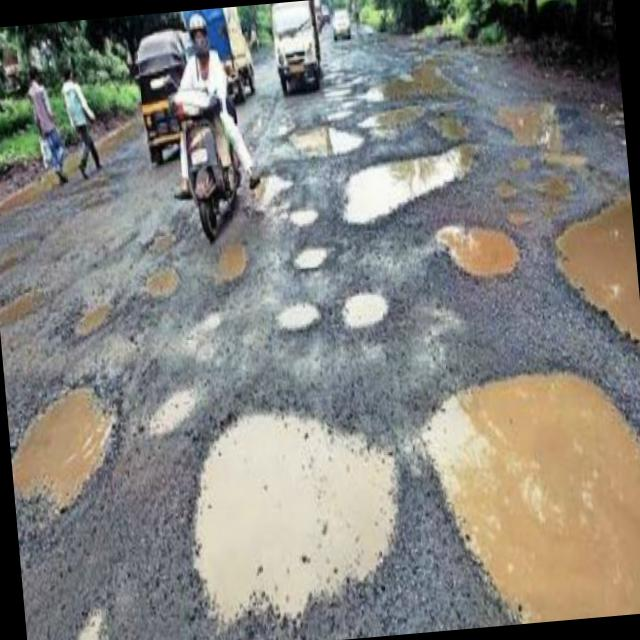Potholes: (425, 368, 640, 630), (188, 386, 402, 602), (525, 143, 640, 365), (8, 361, 137, 518), (431, 192, 529, 312), (338, 150, 488, 228), (490, 82, 577, 177), (362, 46, 468, 98), (280, 114, 368, 174), (342, 283, 403, 351), (196, 242, 268, 296), (0, 248, 44, 326), (62, 285, 124, 340), (353, 95, 430, 133), (242, 162, 294, 218), (276, 288, 326, 336), (426, 107, 476, 153), (142, 262, 188, 296), (293, 247, 333, 281), (288, 202, 322, 232), (142, 222, 178, 247)
